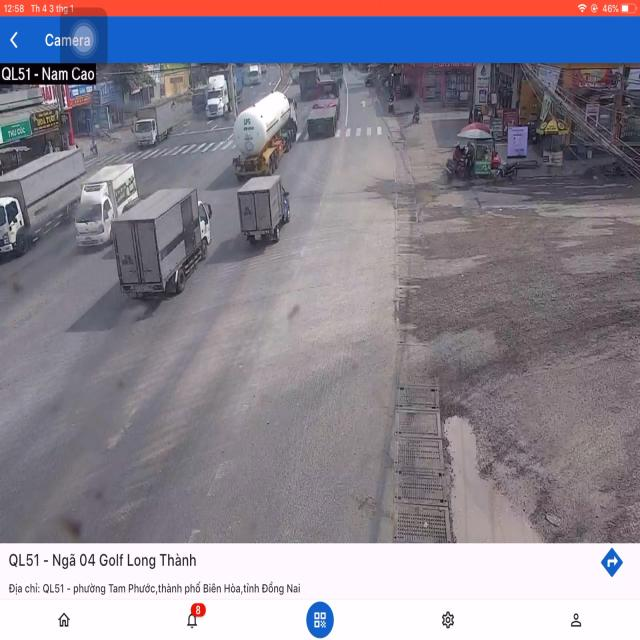truck: (113, 184, 210, 306), (0, 138, 80, 255), (235, 91, 296, 177), (77, 160, 134, 245), (238, 175, 292, 245), (132, 97, 175, 150), (309, 77, 343, 142)
